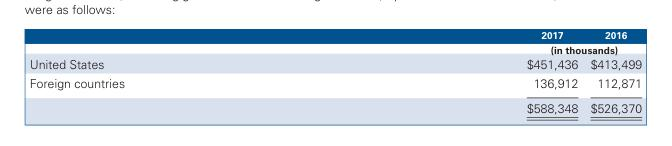table: (28, 28, 641, 115)
table column: (28, 28, 324, 115), (324, 28, 583, 115), (583, 28, 641, 115)
table column header: (28, 28, 641, 55)
table row: (28, 73, 641, 95), (28, 95, 641, 115), (28, 55, 641, 73), (28, 41, 641, 55), (28, 28, 641, 41)
table spanning cell: (324, 41, 641, 55)
